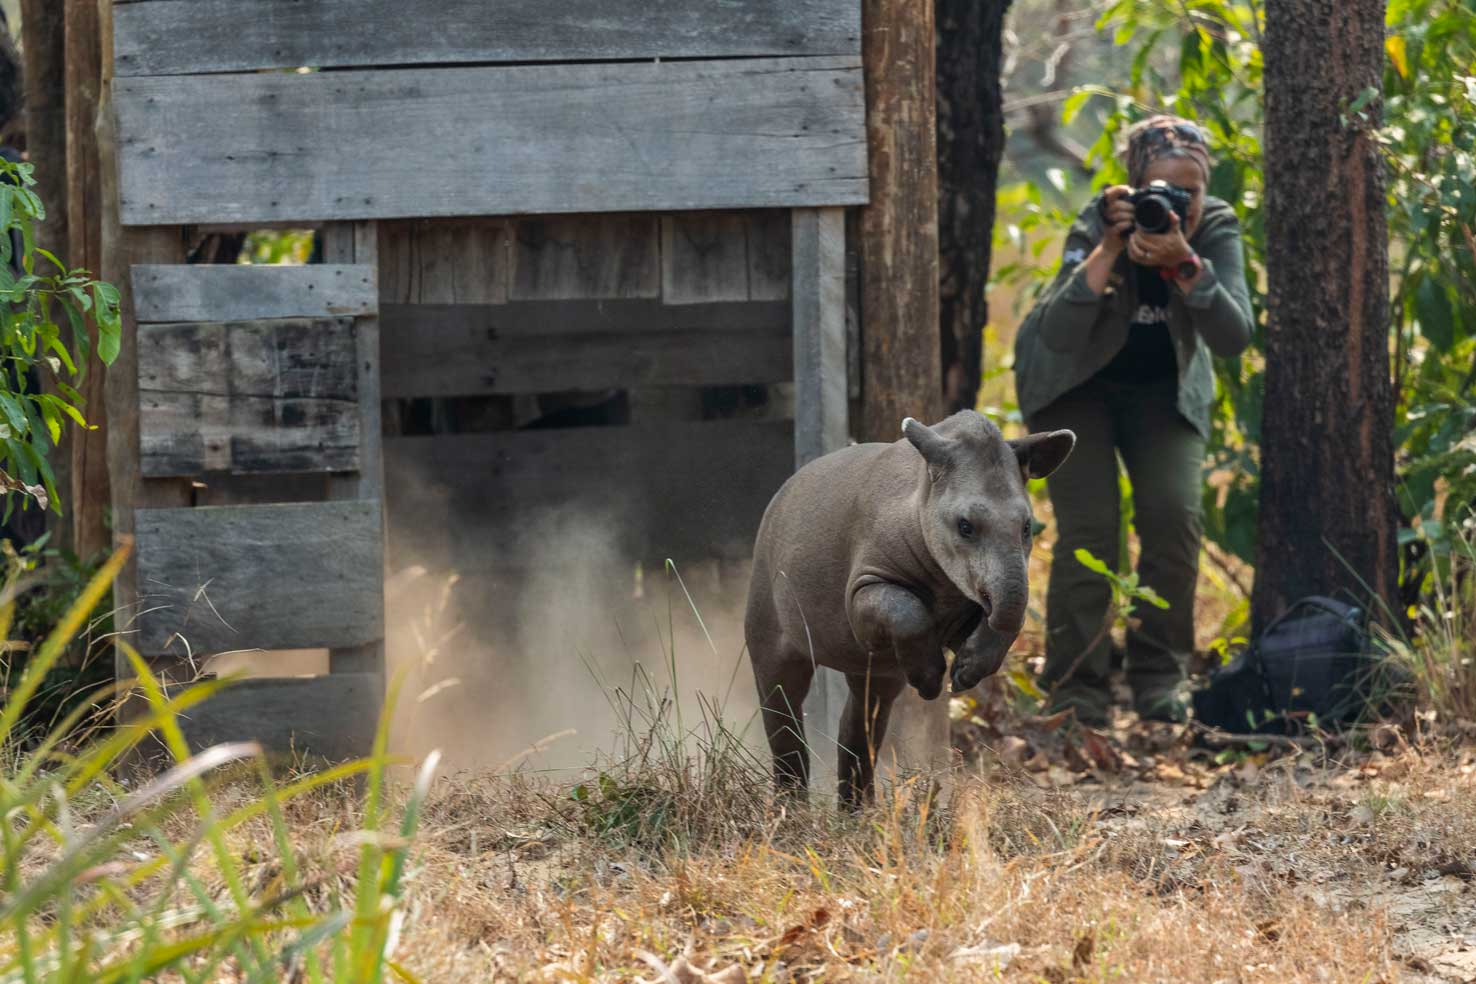Anta: (724, 396, 1085, 832)
